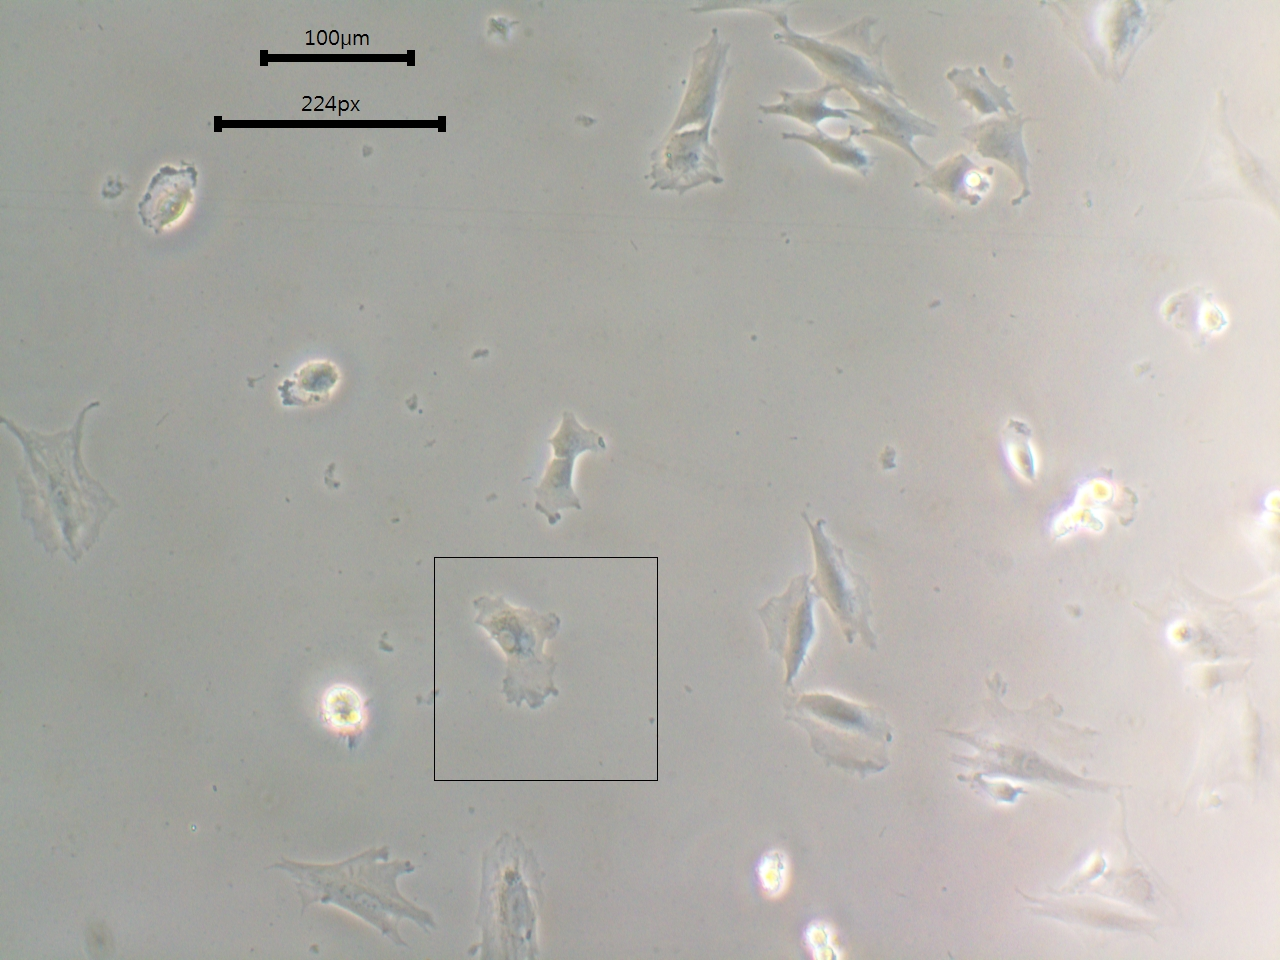dividing: (256, 837, 445, 946), (468, 578, 577, 731), (518, 413, 612, 538)
medium-polygonal: (808, 514, 877, 643)
medium-spread: (946, 683, 1109, 793), (788, 692, 896, 793)
small-round: (757, 851, 784, 906)
small-spread: (994, 419, 1040, 492), (324, 684, 362, 734)
